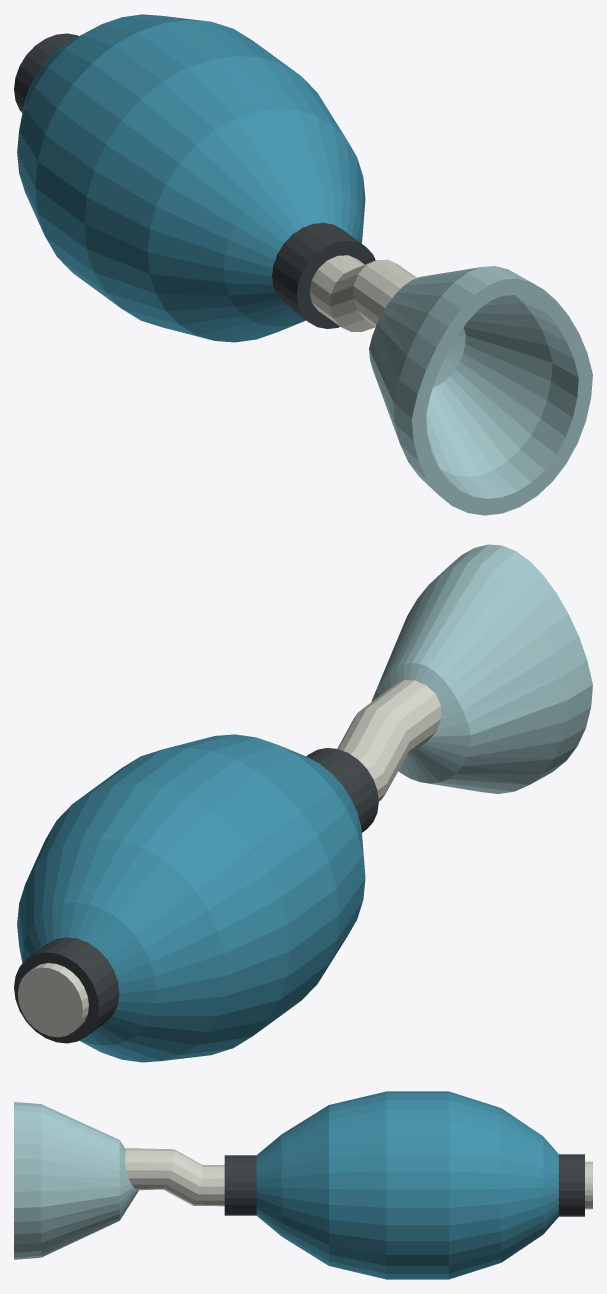
3 renders of one model, top to bottom at view 1: azimuth 30°, elevation 25°; view 2: azimuth 150°, elevation 25°; view 3: azimuth 270°, elevation 25°, orthographic. The views are drawn at different scales.
Visible parts, largest first — view 1: WholeLowOvoidBag, WholeThickOpenNoseMouthCup, WholeBentSolidConnectingElbow, WholeFrontCouplingCollar, WholeRearCappedInletCollar; view 2: WholeLowOvoidBag, WholeThickOpenNoseMouthCup, WholeBentSolidConnectingElbow, WholeRearCappedInletCollar, WholeRearEndCap, WholeFrontCouplingCollar; view 3: WholeLowOvoidBag, WholeThickOpenNoseMouthCup, WholeBentSolidConnectingElbow, WholeFrontCouplingCollar, WholeRearCappedInletCollar, WholeRearEndCap.
Boxes of the visible parts, box(x1,y1,x2,y2) form: WholeLowOvoidBag: box(17, 14, 365, 342); WholeThickOpenNoseMouthCup: box(369, 266, 592, 515); WholeBentSolidConnectingElbow: box(309, 255, 416, 331); WholeFrontCouplingCollar: box(272, 222, 375, 328); WholeRearCappedInletCollar: box(14, 33, 78, 112); WholeLowOvoidBag: box(17, 734, 365, 1062); WholeThickOpenNoseMouthCup: box(371, 544, 592, 793); WholeBentSolidConnectingElbow: box(337, 680, 441, 801); WholeRearCappedInletCollar: box(14, 937, 119, 1043); WholeRearEndCap: box(17, 963, 88, 1037); WholeFrontCouplingCollar: box(306, 748, 378, 832); WholeLowOvoidBag: box(256, 1091, 558, 1279); WholeThickOpenNoseMouthCup: box(14, 1102, 138, 1259); WholeBentSolidConnectingElbow: box(125, 1148, 224, 1206); WholeFrontCouplingCollar: box(224, 1155, 256, 1215); WholeRearCappedInletCollar: box(558, 1154, 584, 1216); WholeRearEndCap: box(585, 1161, 592, 1209).
Bounding box in the file's own units: 0.18 × 0.175 × 0.5535.
